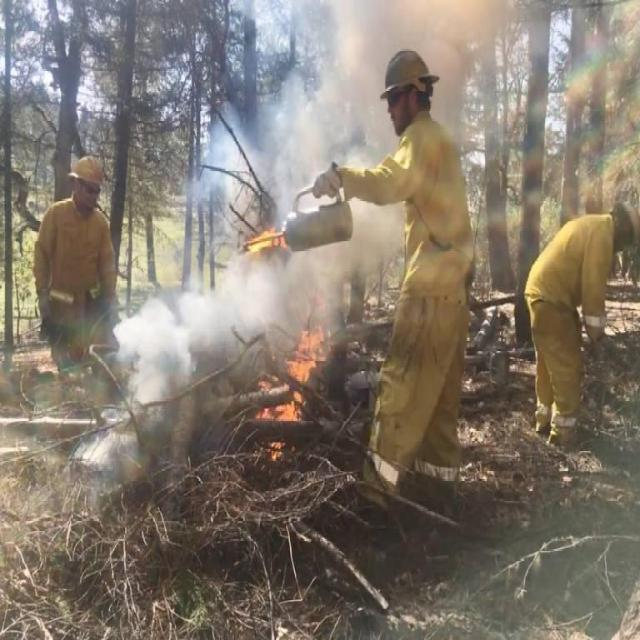fire: (282, 330, 326, 420), (242, 229, 288, 256)
smoke: (212, 2, 382, 164), (116, 262, 278, 373), (290, 217, 391, 318), (386, 1, 510, 54)
